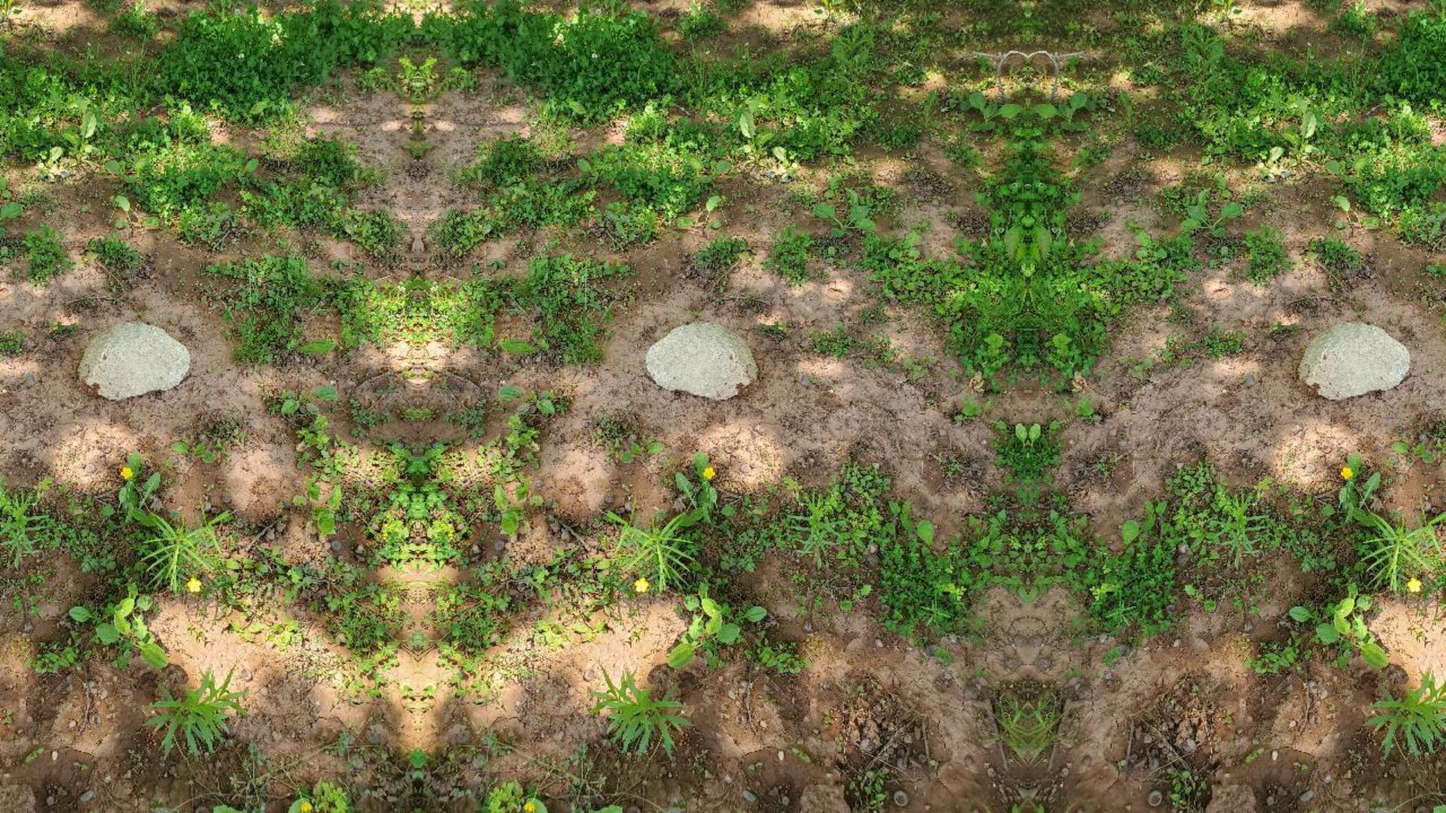rock: (645, 322, 757, 399), (79, 322, 190, 399), (1299, 322, 1410, 399)
